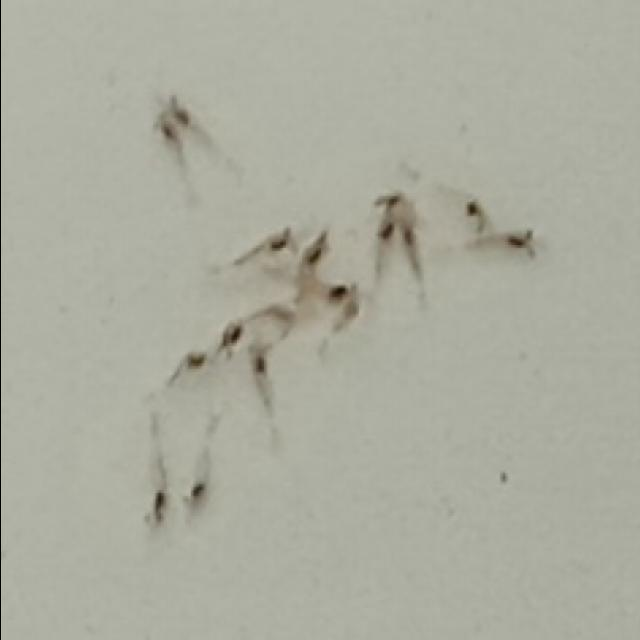shrimp-seed: (177, 476, 210, 528), (136, 488, 170, 534), (497, 224, 535, 264), (161, 92, 197, 133), (257, 222, 292, 262), (174, 344, 210, 382), (297, 230, 332, 269), (458, 192, 490, 234), (392, 220, 422, 264), (212, 321, 244, 359), (334, 284, 359, 332), (146, 111, 178, 148), (240, 346, 272, 382), (368, 218, 398, 255), (376, 190, 404, 222), (316, 278, 342, 302)
